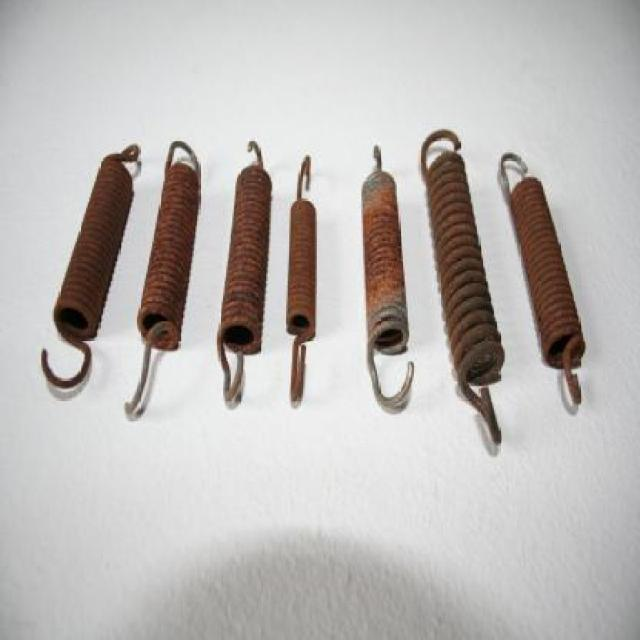corrosion: (43, 124, 588, 456)
